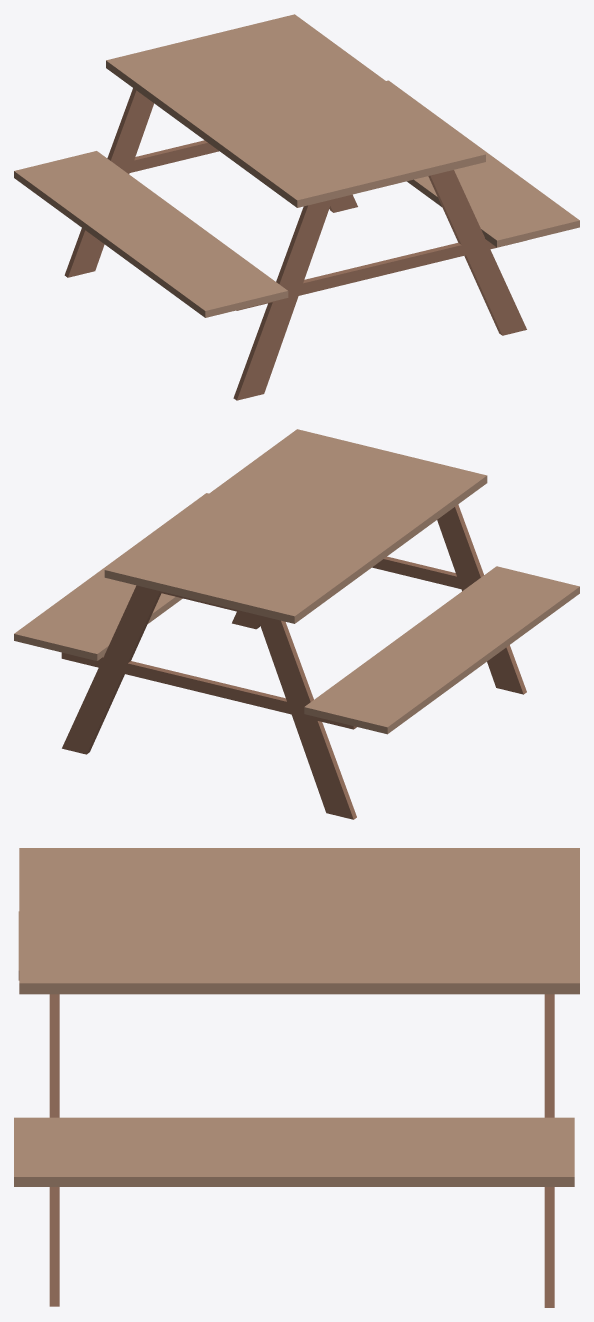
Rendered from PicknickTable.fbx.
3 views of the same model, one above another, from view 1: azimuth 30°, elevation 25°; view 2: azimuth 150°, elevation 25°; view 3: azimuth 270°, elevation 25° (orthographic). The views are drawn at different scales.
Parts seen in each view (by area): view 1: PicknickTable; view 2: PicknickTable; view 3: PicknickTable.
Part boxes in pixels (box(x1,y1,x2,y2)): PicknickTable: box(14, 14, 579, 400); PicknickTable: box(14, 429, 579, 819); PicknickTable: box(14, 848, 579, 1307).
Bounding box in the file's own units: 135 × 67.98 × 121.
